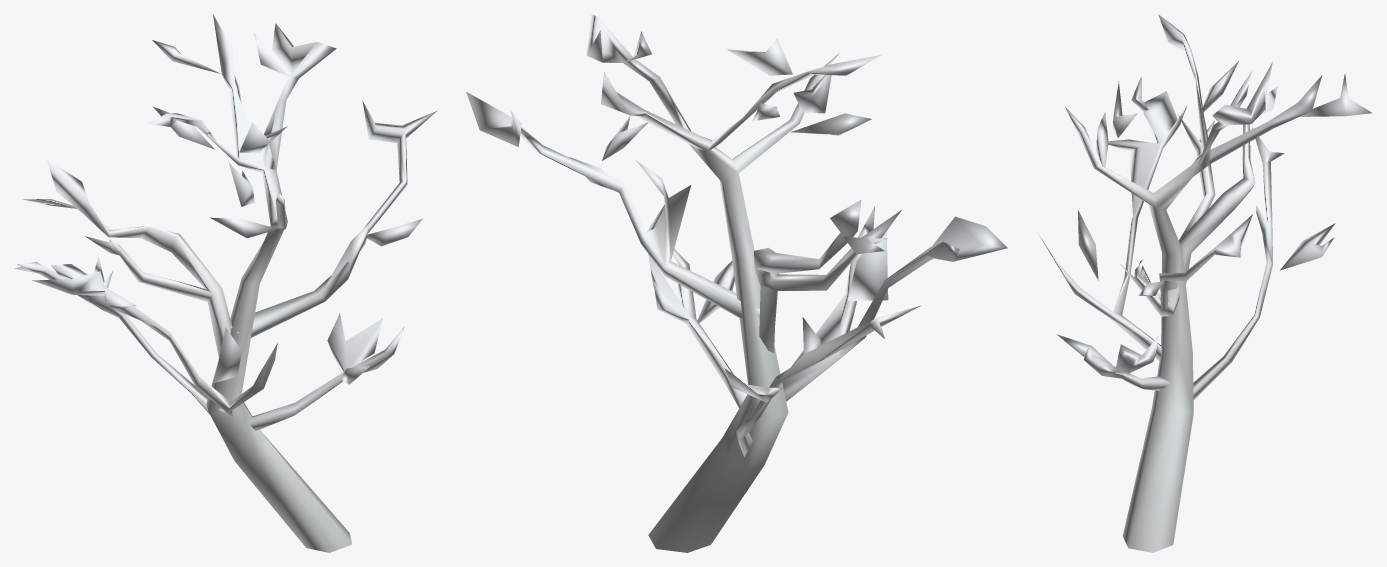
The model's file is Meshy_AI_model_20261128_texture.fbx.
3 views of the same model, side by side, from view 1: azimuth 30°, elevation 25°; view 2: azimuth 150°, elevation 25°; view 3: azimuth 270°, elevation 25° (orthographic). The views are drawn at different scales.
Visible parts, largest first — view 1: geometry_0; view 2: geometry_0; view 3: geometry_0.
Part boxes in pixels (<box>): geometry_0: <box>14,14,436,552</box>; geometry_0: <box>466,14,1007,552</box>; geometry_0: <box>1038,14,1371,552</box>.
Bounding box in the file's own units: 95.36 × 100 × 66.08.
Materials: 1 (1 with a texture image).
